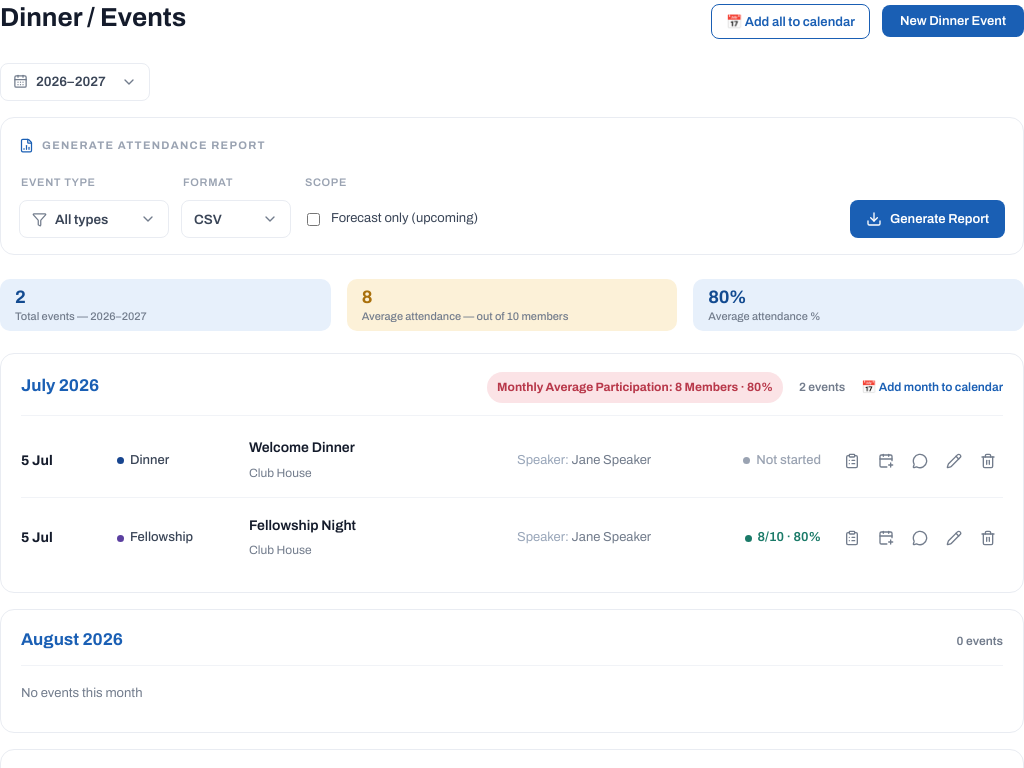
Scenario: DinnerEvents — Minimal design › still opens the edit modal via the icon button
The image size is (1024, 768).
Step 1. Click the button named "Edit event" next to "Not started" → [954, 461], box [939,446,969,476]
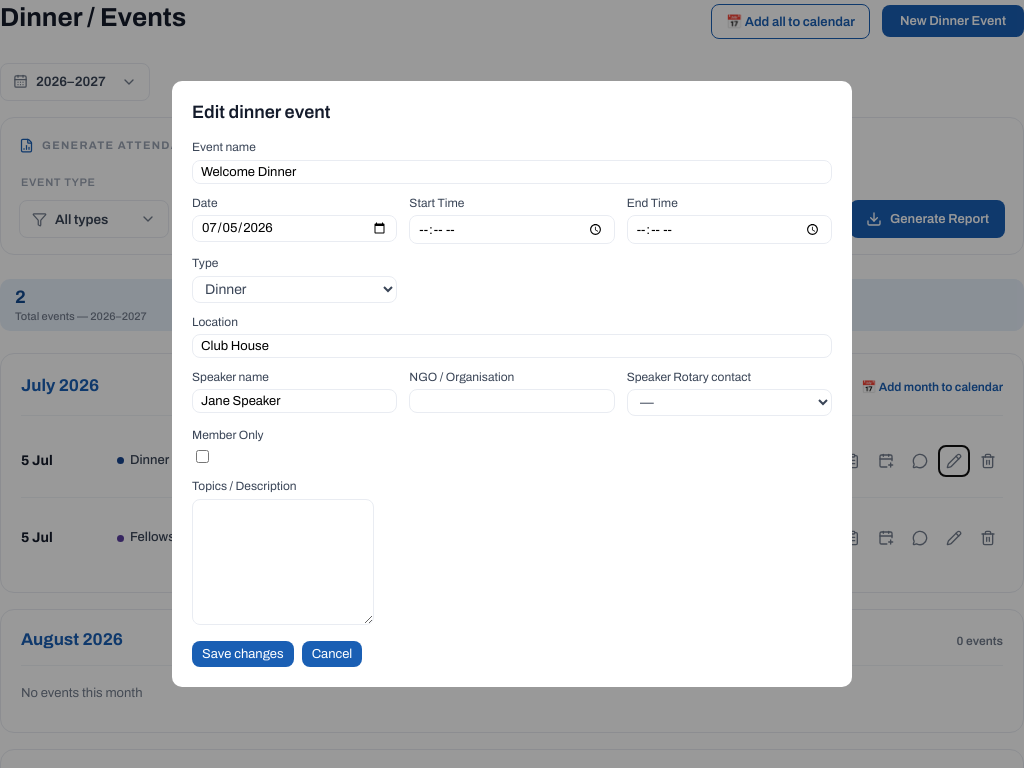
Expected: the heading "Edit dinner event" is shown, [192,102,330,122]
